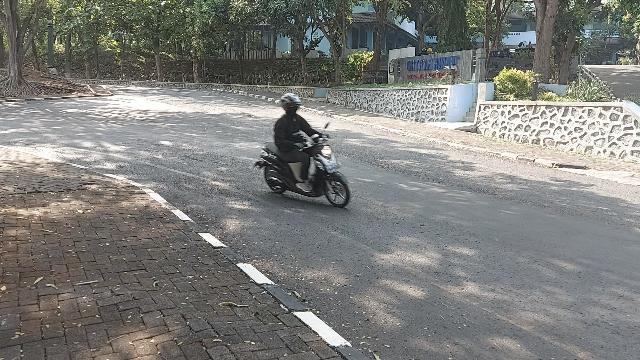helm: (283, 94, 302, 114)
motor: (255, 123, 351, 209)
